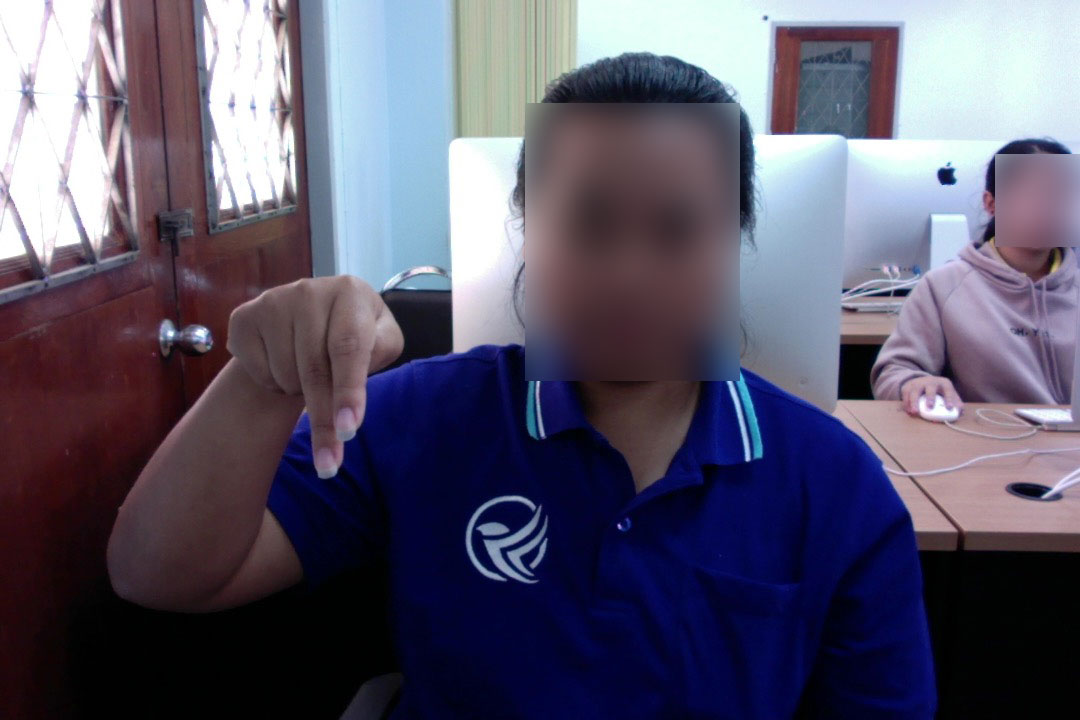por: (220, 262, 413, 491)
